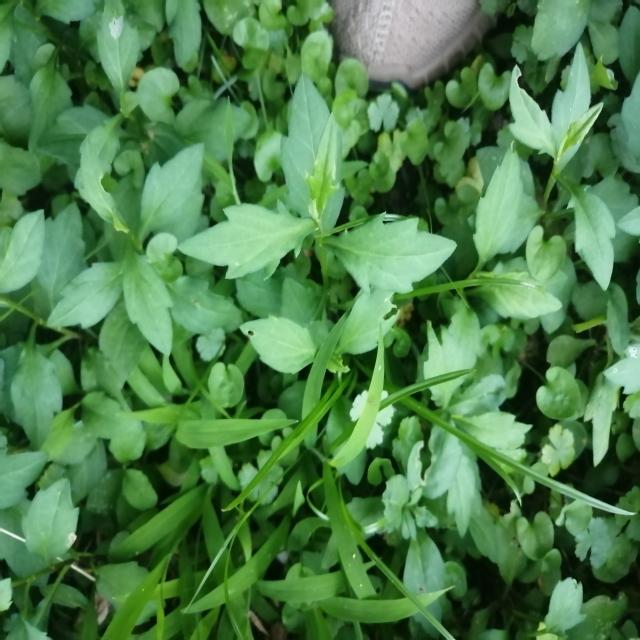Indian aster: (192, 92, 433, 305), (55, 138, 205, 343)
